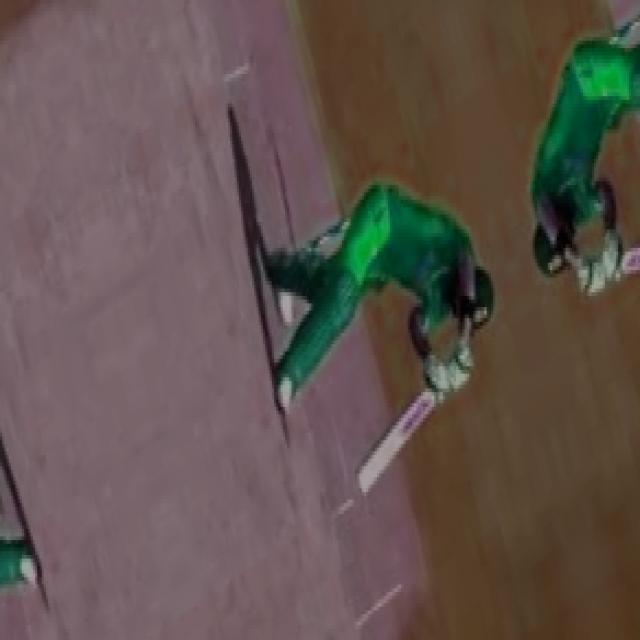bat: (347, 390, 440, 506)
toe: (354, 466, 367, 499)
